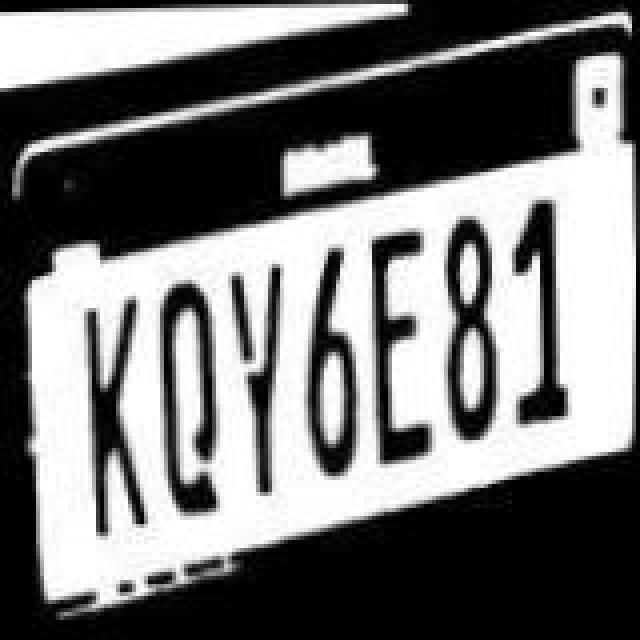1: (500, 190, 580, 442)
6: (298, 240, 370, 484)
8: (430, 202, 506, 454)
E: (362, 218, 438, 478)
K: (74, 288, 158, 544)
Q: (146, 274, 226, 522)
Y: (220, 258, 296, 502)
